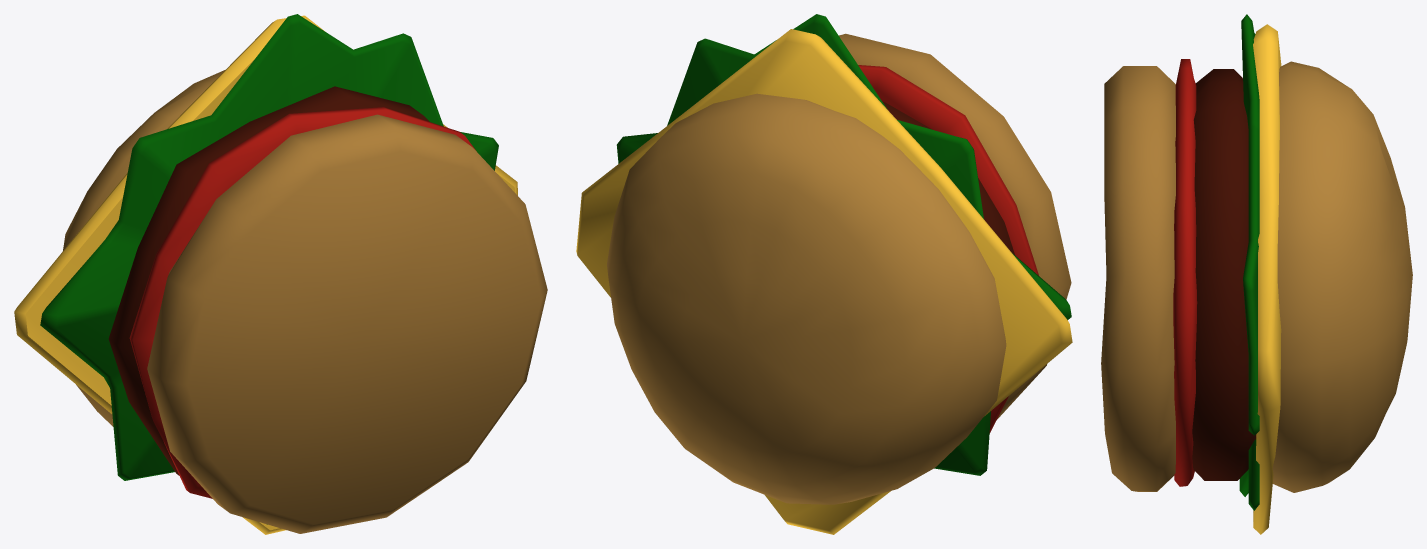
File: HamburgerFixed.fbx
3 views of the same model, side by side, from view 1: azimuth 30°, elevation 25°; view 2: azimuth 150°, elevation 25°; view 3: azimuth 270°, elevation 25° (orthographic). The views are drawn at different scales.
Visible parts, largest first — view 1: Hamburger; view 2: Hamburger; view 3: Hamburger.
Part boxes in pixels (<box>): Hamburger: <box>14,14,547,534</box>; Hamburger: <box>576,14,1072,534</box>; Hamburger: <box>1101,14,1412,534</box>.
Size of the model in its own units: 5226 by 5156 by 2879.
